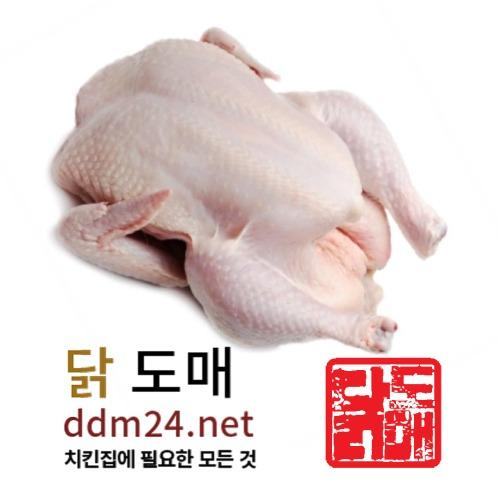chicken: (37, 20, 351, 275)
